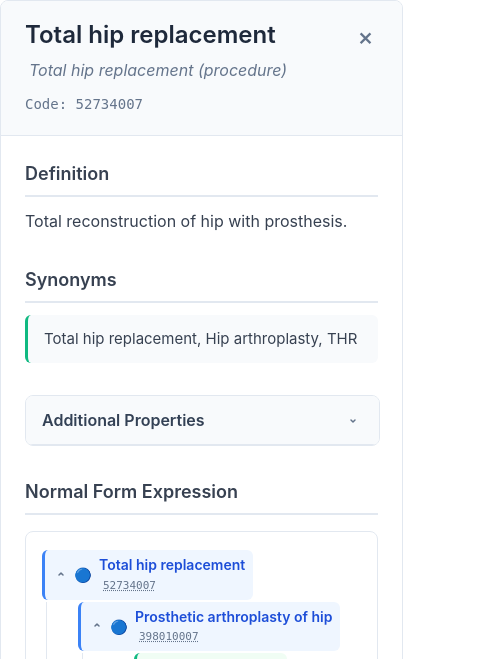
ConceptDetailsComponent › Properties Section › should display additional properties when available
Expected: the heading "Additional Properties" is shown, x1=42 y1=408 x2=205 y2=432
Expand the properties section
Click the button named "Expand additional properties" at (353, 420), box x1=343 y1=410 x2=363 y2=430
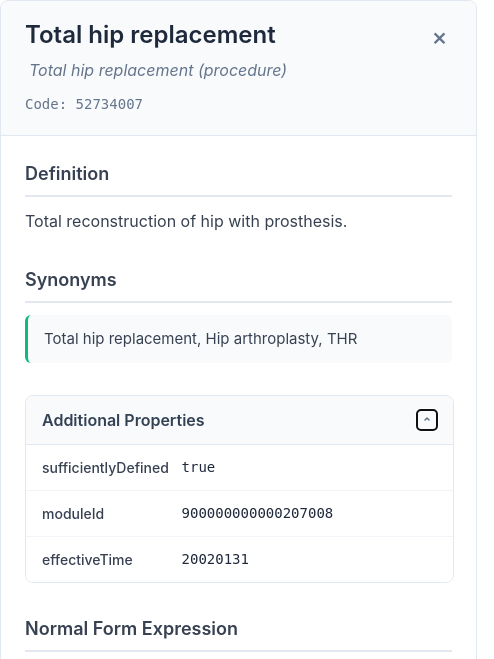
Expected: the text "Additional Properties" shows "sufficientlyDefined", x1=42 y1=459 x2=169 y2=476
Expected: the text "Additional Properties" shows "true", x1=182 y1=459 x2=215 y2=475
Expected: the text "Additional Properties" shows "moduleId", x1=42 y1=505 x2=104 y2=522
